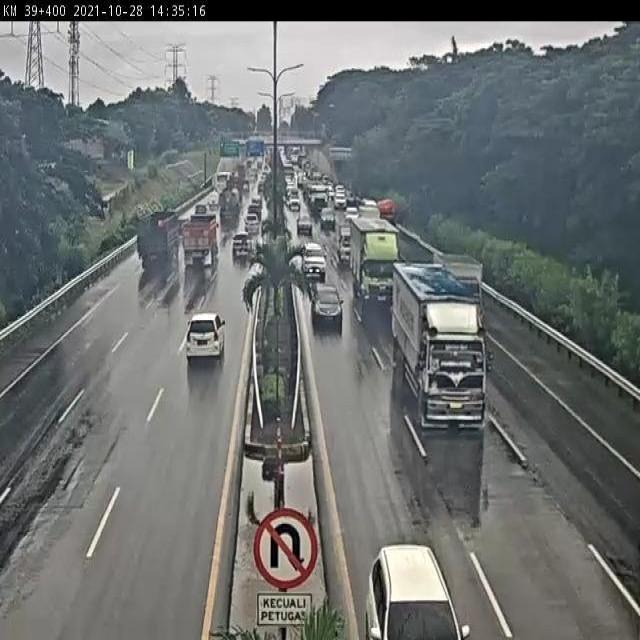big bus: (214, 172, 226, 192)
big truck: (400, 255, 498, 442), (346, 211, 393, 288), (133, 199, 173, 272), (178, 220, 212, 279), (218, 190, 236, 222), (308, 184, 328, 204), (228, 180, 240, 199)
car: (376, 514, 440, 640), (176, 313, 223, 375), (306, 272, 342, 309), (300, 233, 324, 267), (228, 240, 248, 267), (334, 221, 348, 252), (296, 212, 312, 232), (318, 206, 332, 226), (290, 190, 302, 213), (242, 222, 255, 242), (203, 194, 213, 214), (188, 208, 200, 224), (248, 208, 259, 223), (335, 192, 343, 205)
